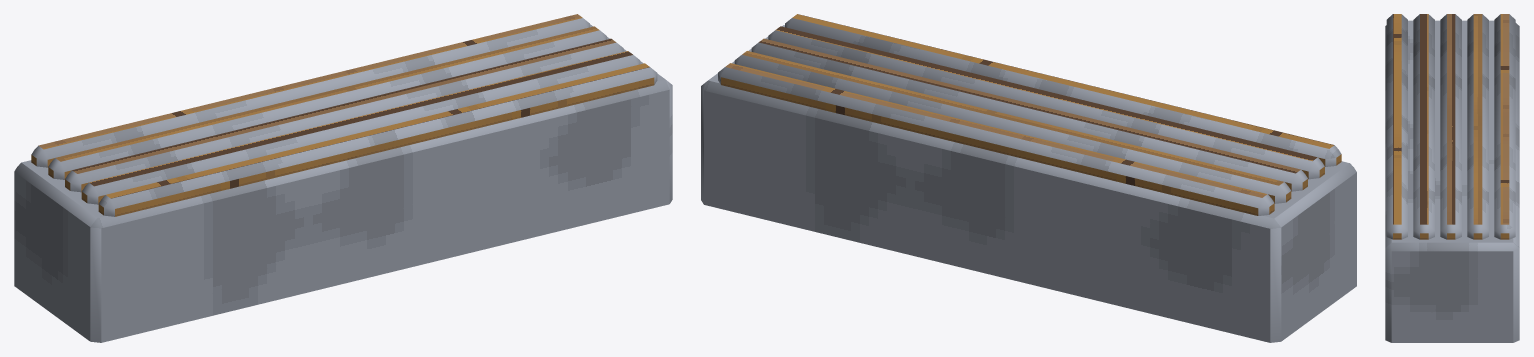
File: modern_bench_1.glb
The picture shows the model from 3 angles, left to right: view 1: azimuth 30°, elevation 25°; view 2: azimuth 150°, elevation 25°; view 3: azimuth 270°, elevation 25°; orthographic projection. The views are drawn at different scales.
Visible parts, largest first — view 1: modern_bench_2; view 2: modern_bench_2; view 3: modern_bench_2.
Part boxes in pixels (x1=…): modern_bench_2: x1=14, y1=14, x2=672, y2=342; modern_bench_2: x1=701, y1=14, x2=1356, y2=342; modern_bench_2: x1=1385, y1=14, x2=1519, y2=342.
Bounding box in the file's own units: 2 × 0.45 × 0.5.
2 materials, 2 textured.
